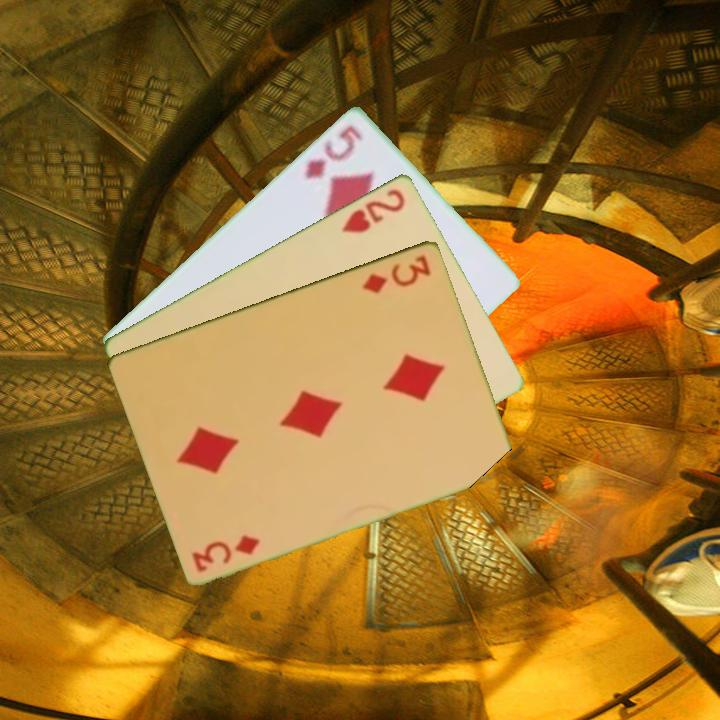2h: (338, 184, 408, 236)
3d: (359, 251, 434, 296), (188, 530, 263, 575)
5d: (301, 121, 366, 182)
